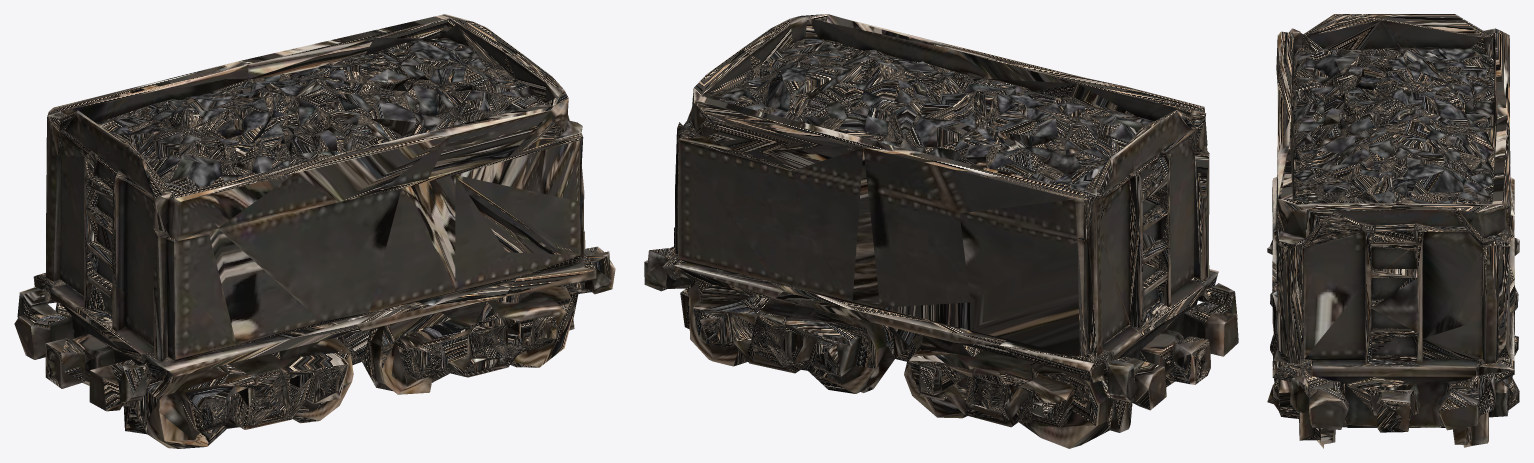
File: rail_tender.glb
3 renders of one model, left to right at view 1: azimuth 30°, elevation 25°; view 2: azimuth 150°, elevation 25°; view 3: azimuth 270°, elevation 25°, orthographic. The views are drawn at different scales.
Parts seen in each view (by area): view 1: normalize; view 2: normalize; view 3: normalize.
Part boxes in pixels (x1,y1,x2,y2): normalize: (14,14,615,448); normalize: (644,14,1238,448); normalize: (1267,14,1519,448).
Bounding box in the file's own units: 1 × 0.5421 × 0.4587.
1 material, 1 textured.
